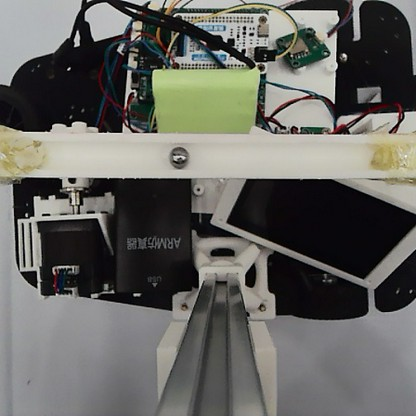ironball: (166, 143, 190, 169)
